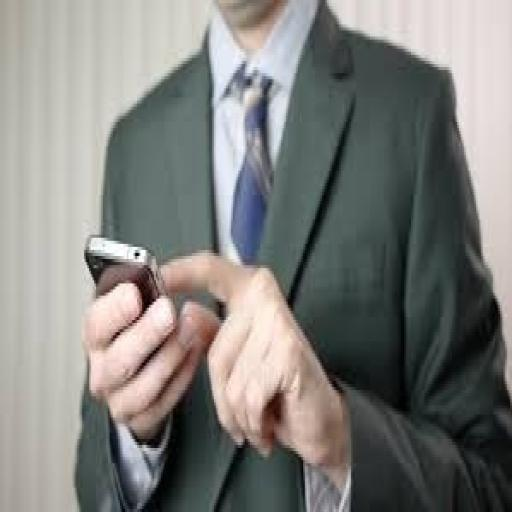texting: (72, 0, 508, 506)
